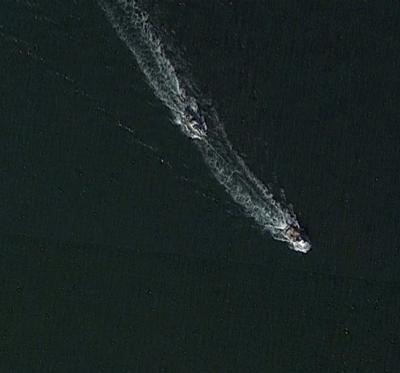Ships: (182, 104, 224, 154), (279, 219, 316, 265)
